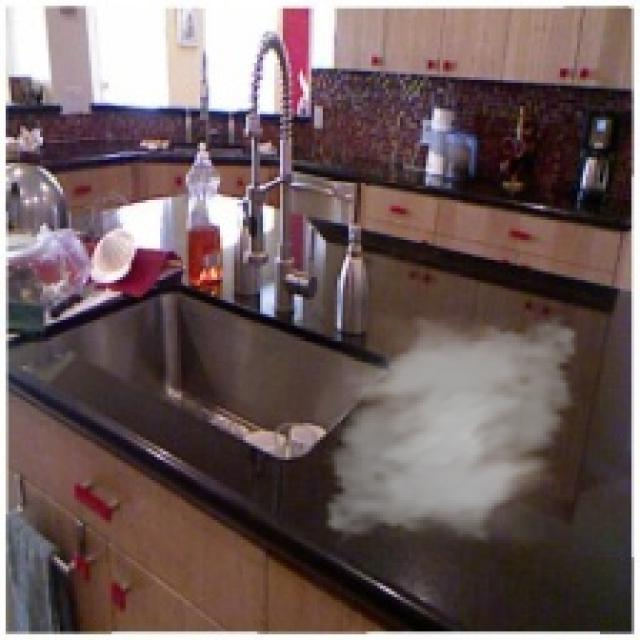smoke: (314, 297, 589, 554)
